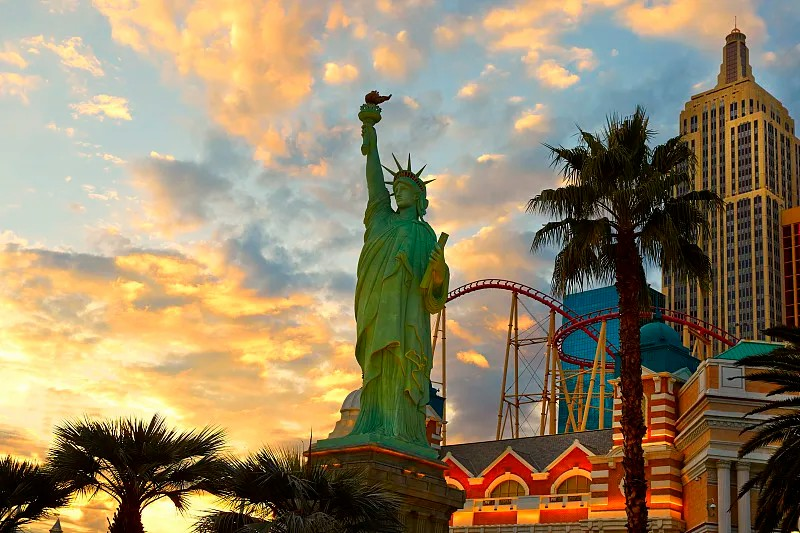SL: (302, 90, 466, 533)
